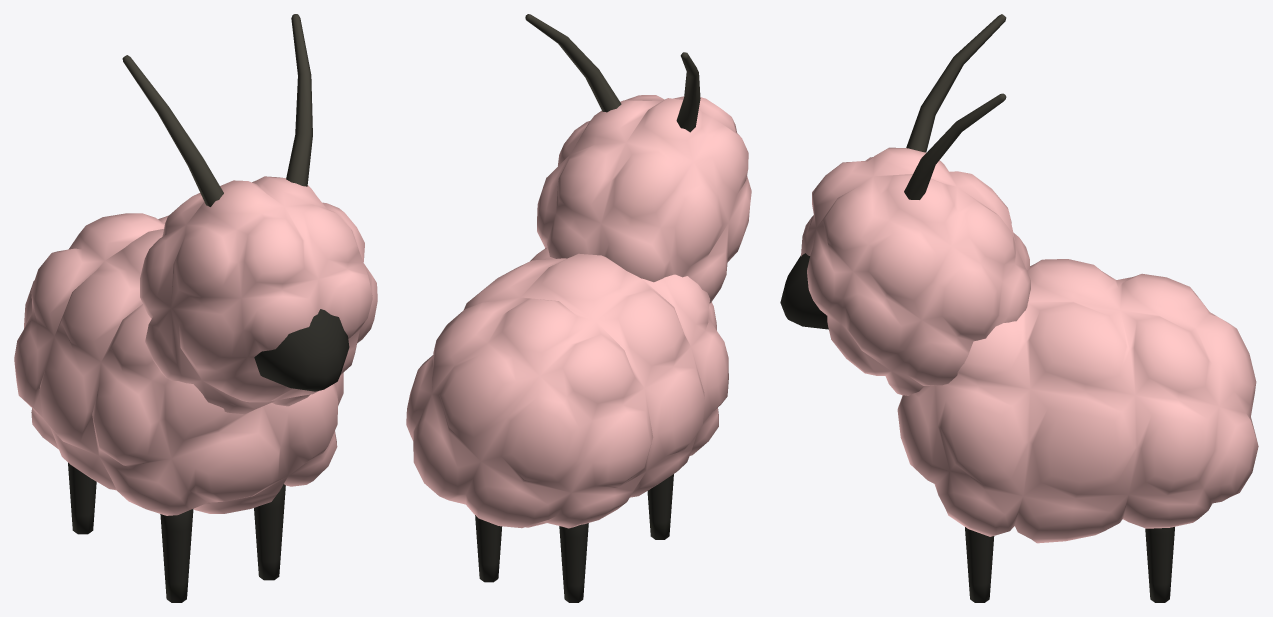
File: G_Sheep.fbx
3 renders of one model, left to right at view 1: azimuth 30°, elevation 25°; view 2: azimuth 150°, elevation 25°; view 3: azimuth 270°, elevation 25°, orthographic. The views are drawn at different scales.
Visible parts, largest first — view 1: SpeepBody, HeadFluf, Legs, Horns, Body; view 2: SpeepBody, HeadFluf, Legs, Horns; view 3: SpeepBody, HeadFluf, Horns, Legs, Body.
Boxes of the visible parts, x1,y1,x2,y2 form: SpeepBody: (14,213,343,515); HeadFluf: (140,176,377,414); Legs: (68,462,285,602); Horns: (122,14,312,206); Body: (254,309,349,391); SpeepBody: (406,247,728,528); HeadFluf: (537,95,751,303); Legs: (475,474,673,602); Horns: (525,14,700,132); SpeepBody: (897,259,1258,543); HeadFluf: (801,147,1030,395); Horns: (904,14,1006,199); Legs: (965,527,1174,602); Body: (780,253,828,329).
Size of the model in its own units: 216 by 444 by 368.
